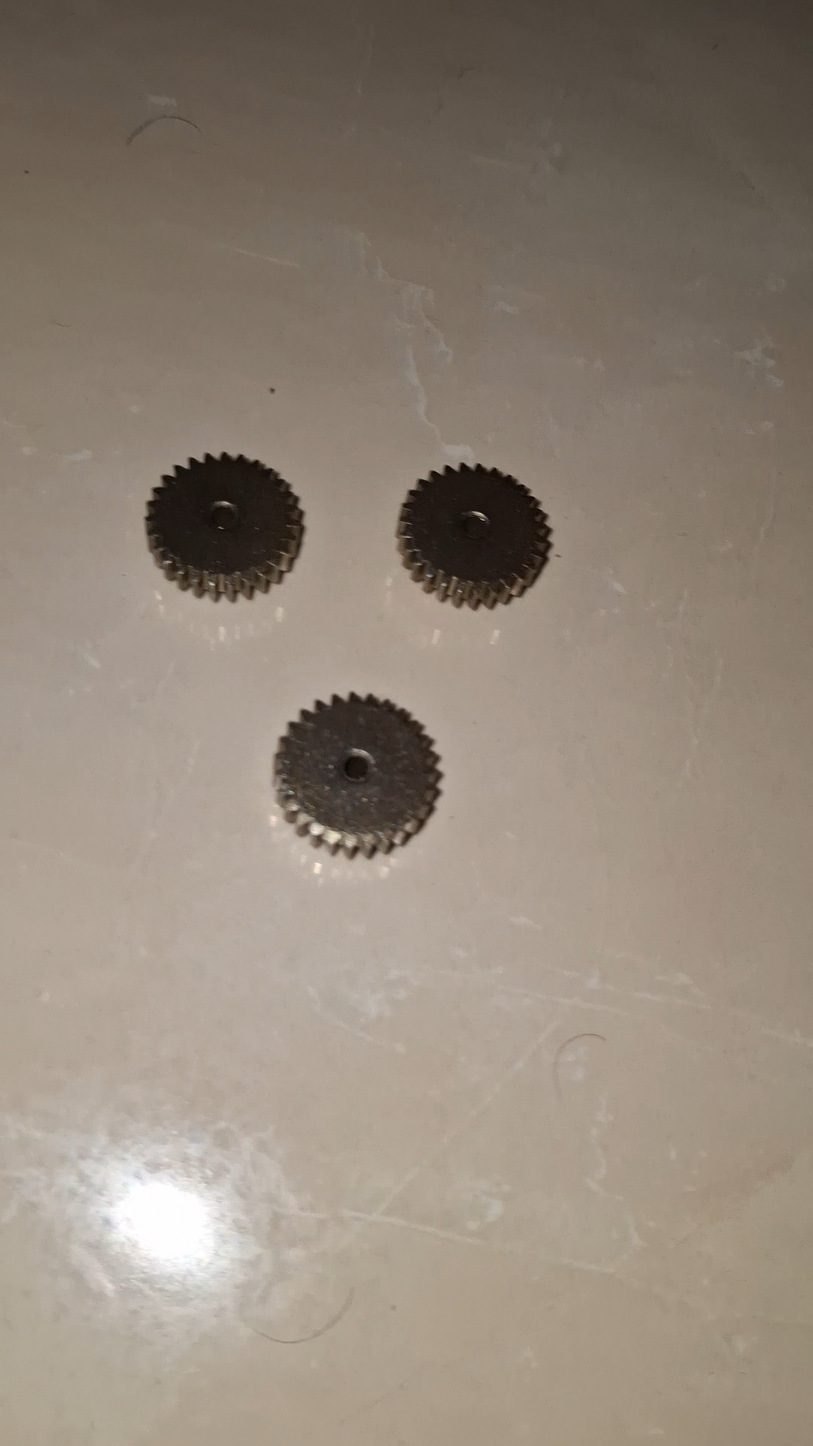spur gear: (275, 693, 440, 857), (146, 453, 302, 600), (397, 465, 550, 607)
